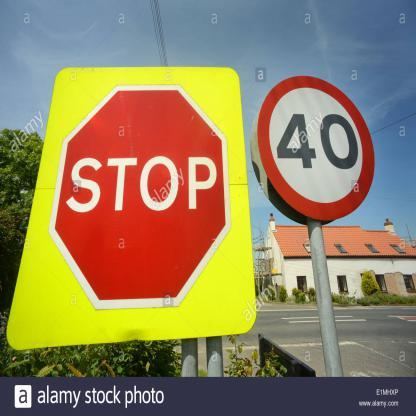Speed Limit 40: (261, 74, 373, 221)
Stop: (60, 84, 226, 306)
